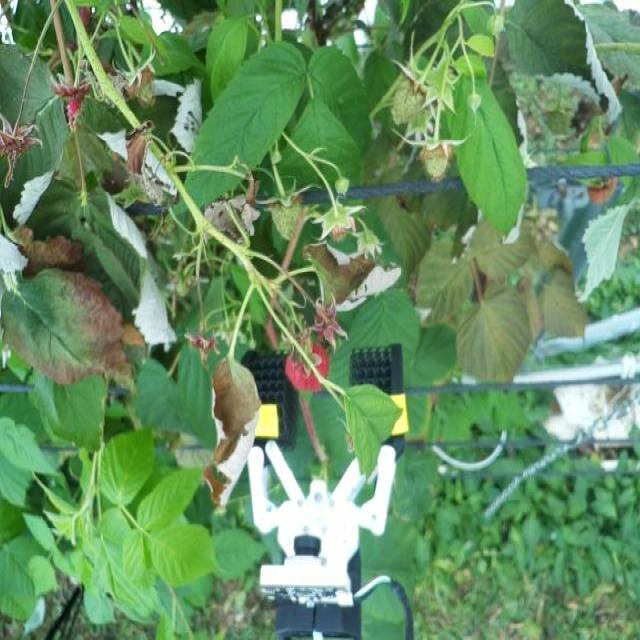Riped berries: (282, 332, 331, 393)
